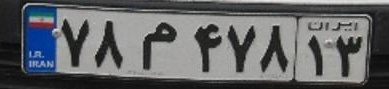character: (132, 17, 184, 75), (186, 16, 225, 75), (255, 18, 292, 77), (222, 20, 258, 76), (92, 15, 127, 72), (58, 14, 92, 72), (332, 32, 365, 80), (304, 31, 329, 80)
